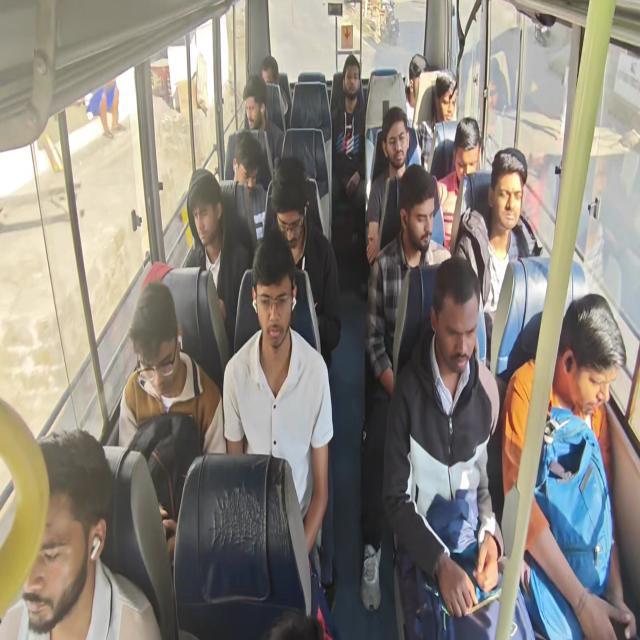person: (2, 426, 107, 625), (565, 316, 616, 418), (140, 296, 182, 408), (254, 265, 302, 363), (437, 290, 474, 376), (273, 177, 303, 248), (189, 182, 220, 248), (230, 144, 266, 196), (404, 190, 434, 251), (495, 168, 520, 230), (452, 125, 478, 180), (434, 77, 458, 126), (387, 121, 408, 170), (408, 56, 429, 96), (245, 88, 264, 132), (341, 59, 360, 98), (261, 58, 280, 85)
